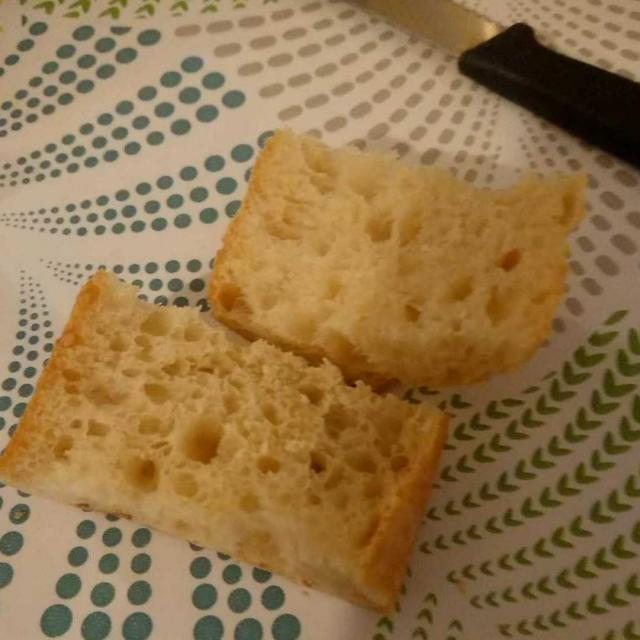bread: (8, 129, 579, 632)
